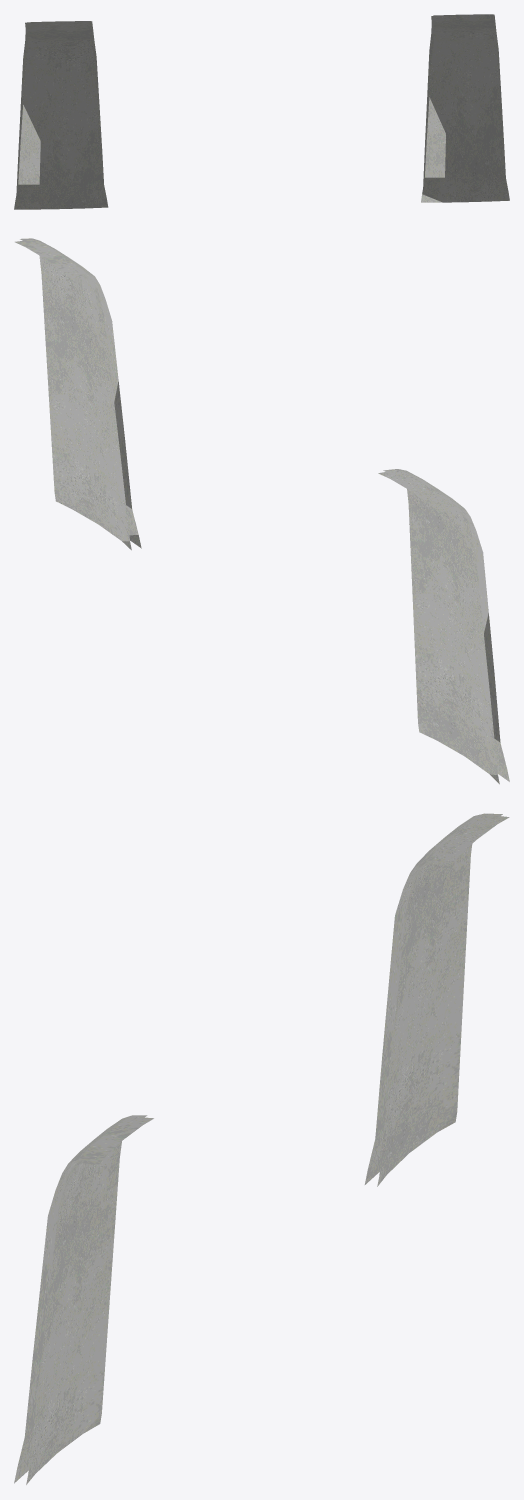
File: stg110_MotWater_27.obj
3 views of the same model, one above another, from view 1: azimuth 30°, elevation 25°; view 2: azimuth 150°, elevation 25°; view 3: azimuth 270°, elevation 25° (orthographic). The views are drawn at different scales.
Visible parts, largest first — view 1: polygon0, polygon1; view 2: polygon1, polygon0; view 3: polygon1, polygon0.
Part boxes in pixels (<box>): polygon0: <box>14,14,509,209</box>; polygon1: <box>16,14,505,193</box>; polygon1: <box>15,241,499,784</box>; polygon0: <box>20,238,509,781</box>; polygon1: <box>26,816,509,1484</box>; polygon0: <box>14,813,502,1483</box>.
Size of the model in its own units: 617 by 263 by 352.
